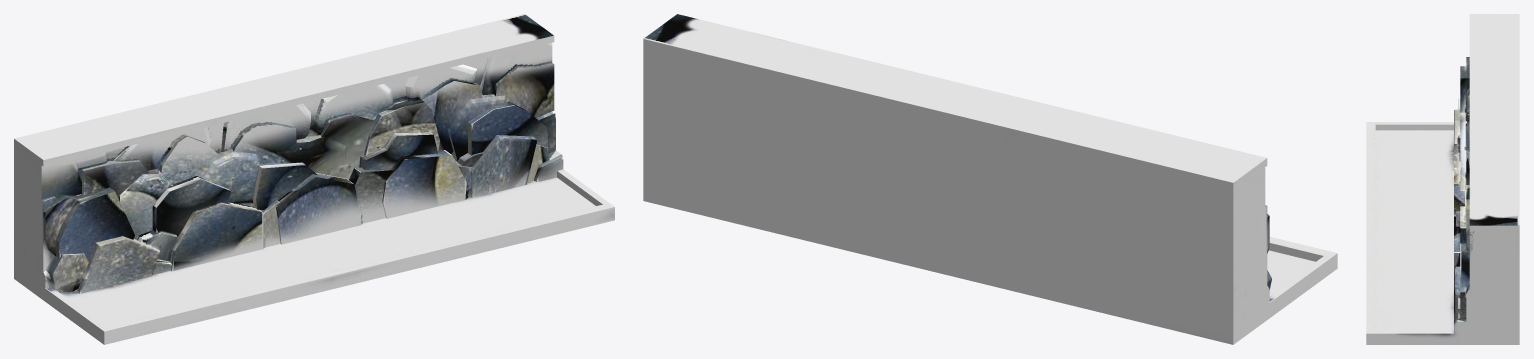
3 views of the same model, side by side, from view 1: azimuth 30°, elevation 25°; view 2: azimuth 150°, elevation 25°; view 3: azimuth 270°, elevation 25° (orthographic). The views are drawn at different scales.
Parts seen in each view (by area): view 1: Unduck; view 2: Unduck; view 3: Unduck.
Boxes of the visible parts, box(x1,y1,x2,y2) form: Unduck: box(14, 14, 614, 344); Unduck: box(643, 14, 1337, 344); Unduck: box(1366, 14, 1519, 344).
Bounding box in the file's own units: 80 × 24.5 × 21.
Materials: 1 (1 with a texture image).
